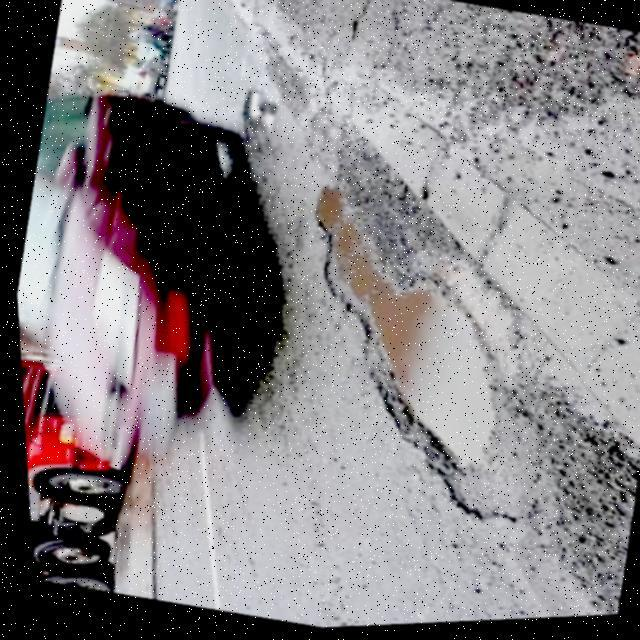pothole: (245, 172, 536, 496)
